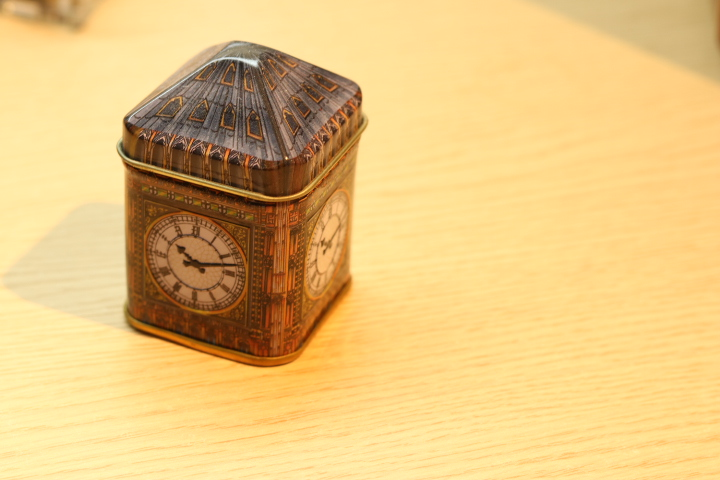Big Ben: (103, 28, 405, 389)
